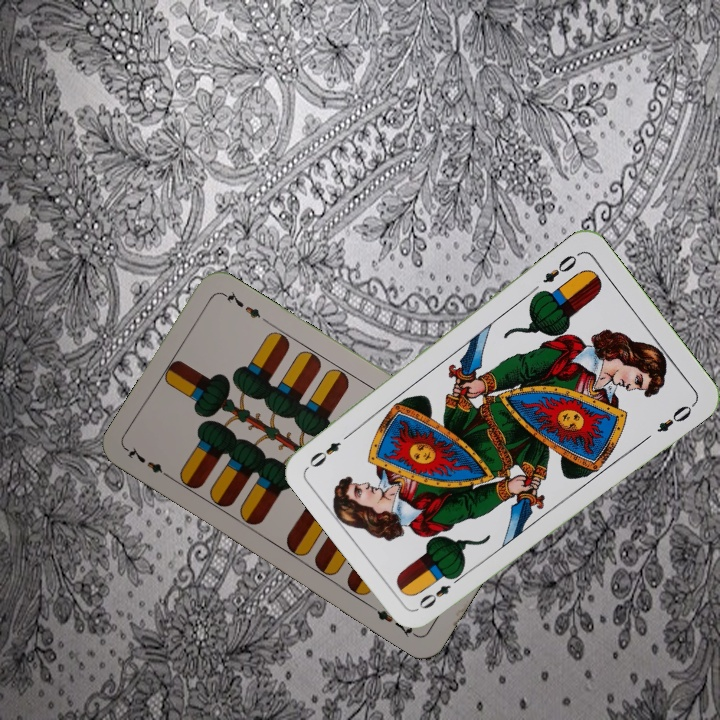E7: (123, 443, 176, 483)
EO: (414, 570, 465, 612), (538, 248, 583, 286)
